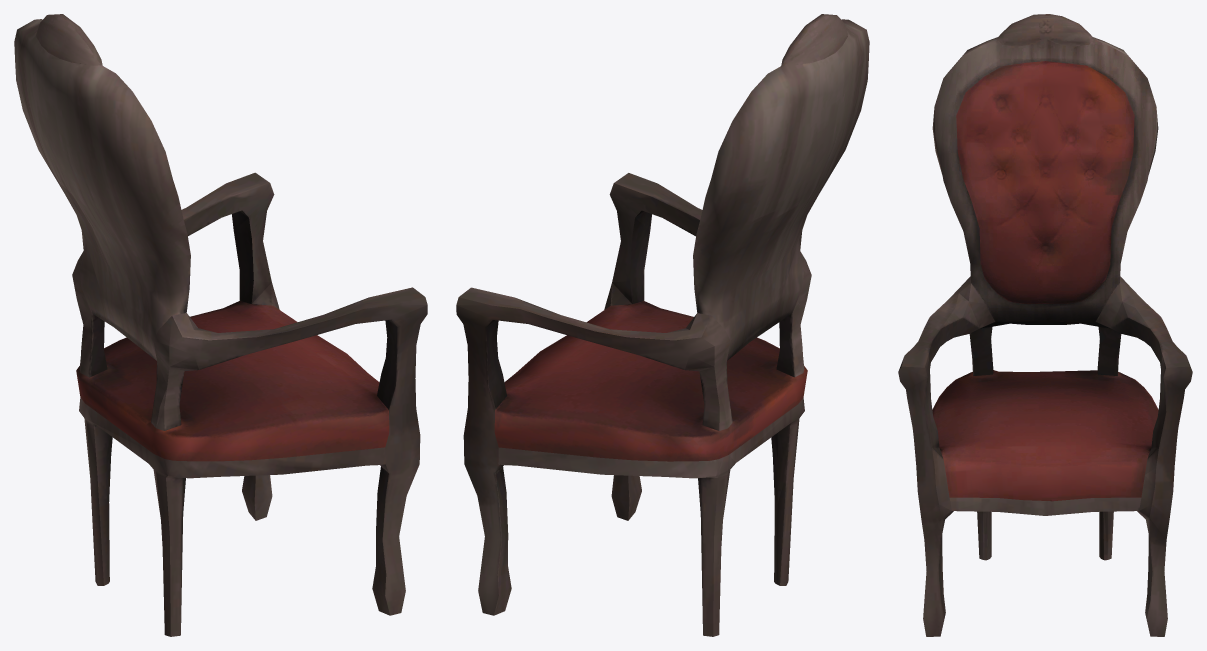
The model's file is chair_01.glb.
The picture shows the model from 3 angles, left to right: view 1: azimuth 30°, elevation 25°; view 2: azimuth 150°, elevation 25°; view 3: azimuth 270°, elevation 25°; orthographic projection. The views are drawn at different scales.
Parts seen in each view (by area): view 1: chair_01; view 2: chair_01; view 3: chair_01.
Boxes of the visible parts, box(x1,y1,x2,y2) form: chair_01: box(14, 14, 427, 636); chair_01: box(456, 14, 869, 636); chair_01: box(898, 14, 1192, 636).
Size of the model in its own units: 0.8311 by 1.59 by 0.8254.
2 materials, 2 textured.
